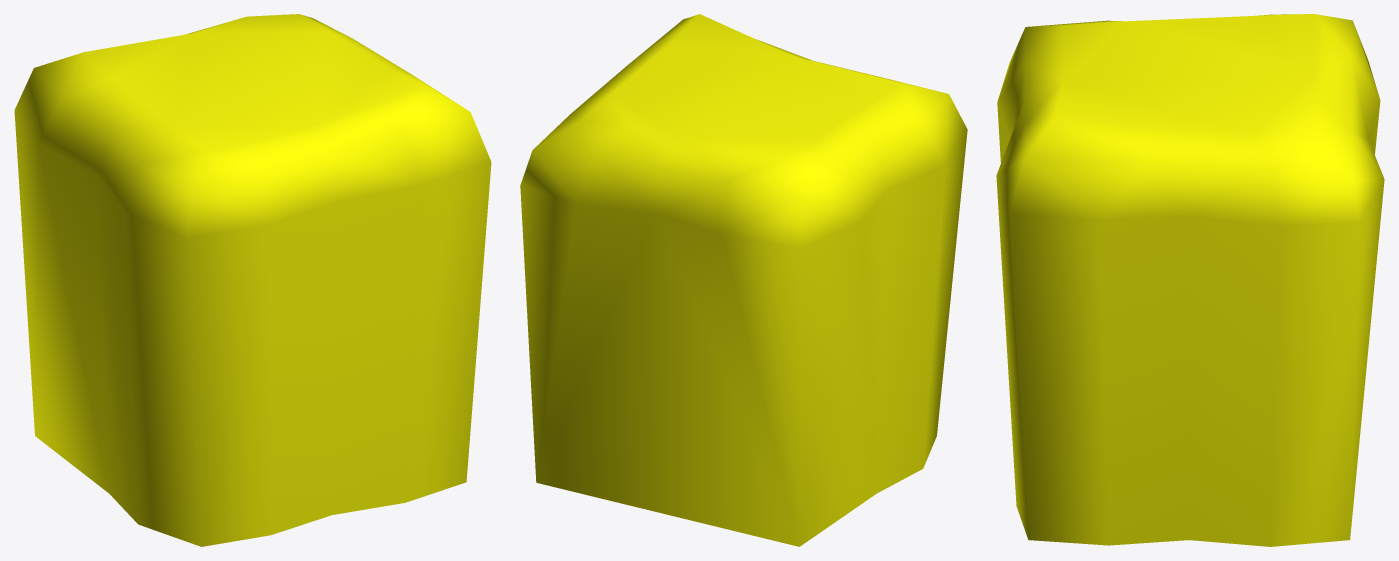
Rendered from parking_bush_01.glb.
3 views of the same model, side by side, from view 1: azimuth 30°, elevation 25°; view 2: azimuth 150°, elevation 25°; view 3: azimuth 270°, elevation 25° (orthographic). The views are drawn at different scales.
Visible parts, largest first — view 1: bush_01; view 2: bush_01; view 3: bush_01.
Part boxes in pixels (x1,y1,x2,y2): bush_01: (14, 14, 491, 546); bush_01: (520, 14, 967, 546); bush_01: (996, 14, 1384, 546).
Size of the model in its own units: 0.9966 by 1.11 by 0.9535.
1 material, 1 textured.
